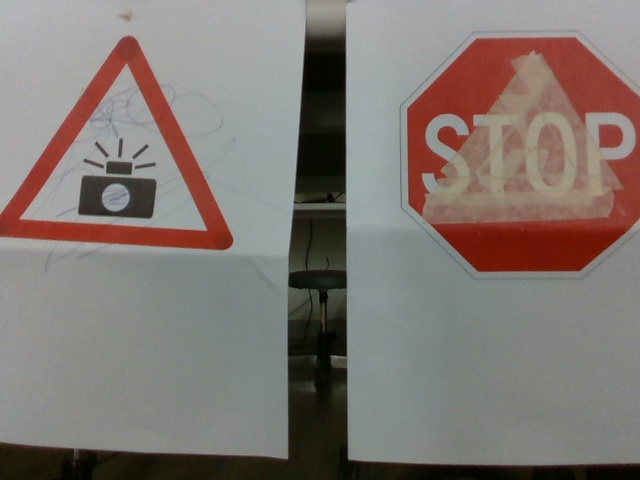camera: (4, 35, 238, 255)
stop: (399, 33, 640, 277)
